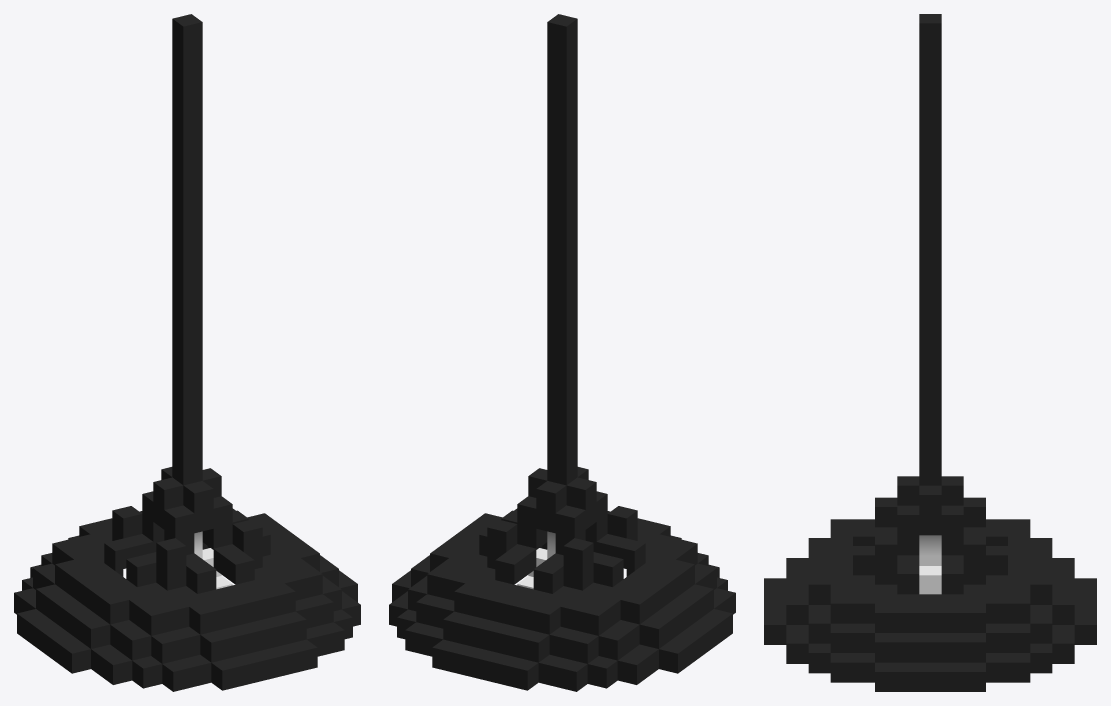
File: Lamp.obj
3 views of the same model, side by side, from view 1: azimuth 30°, elevation 25°; view 2: azimuth 150°, elevation 25°; view 3: azimuth 270°, elevation 25° (orthographic).
Visible parts, largest first — view 1: Matrix; view 2: Matrix; view 3: Matrix.
Part boxes in pixels (bbox=[...]): Matrix: bbox=[14, 14, 360, 691]; Matrix: bbox=[389, 14, 735, 691]; Matrix: bbox=[764, 14, 1096, 691].
Size of the model in its own units: 0.75 by 1.5 by 0.75.
1 material, 1 textured.
